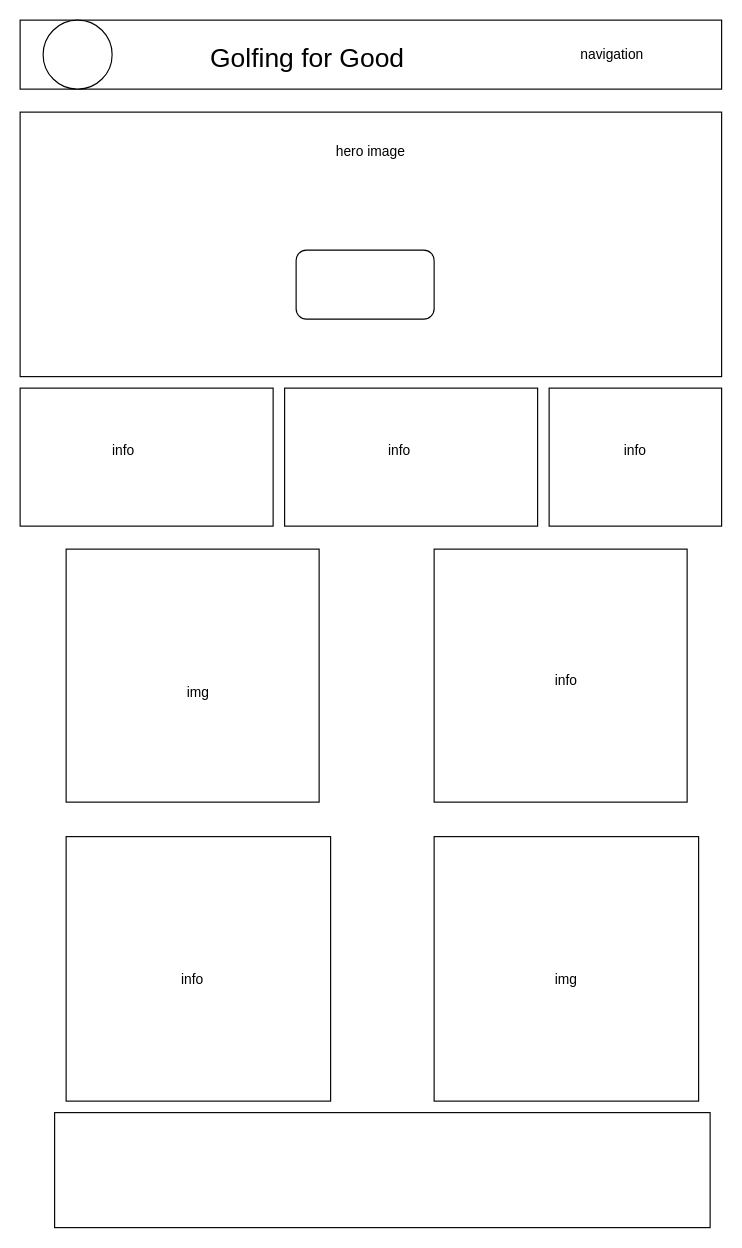
This 742x1248 diagram has some shape labels left out. Here are the shapes that lost their labels. From the top down, the centre of each, then its label:
At (77,54): "logo".
At (364,284): "call to action".
At (381,1169): "Text".
